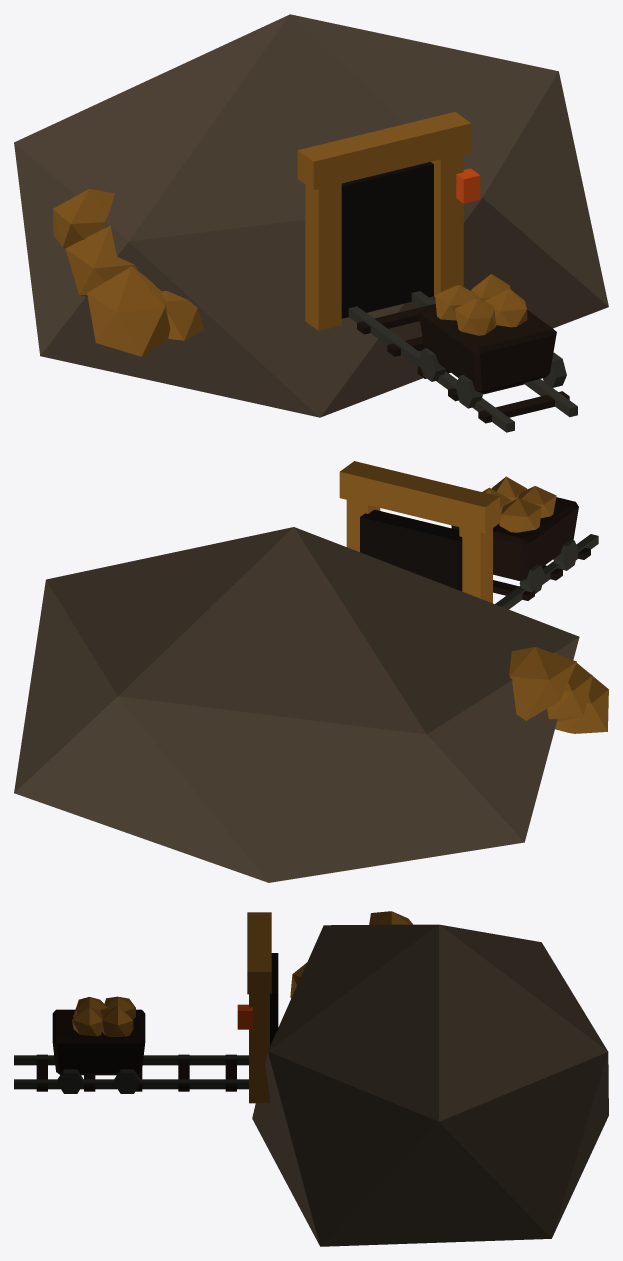
Rendered from goldmine.obj.
The picture shows the model from 3 angles, top to bottom: view 1: azimuth 30°, elevation 25°; view 2: azimuth 150°, elevation 25°; view 3: azimuth 270°, elevation 25°; orthographic projection. The views are drawn at different scales.
Visible parts, largest first — view 1: core_rock, core_gold, core_black, core_wood_dark, core_metal_dark, core_fire; view 2: core_rock, core_gold, core_black, core_wood_dark, core_metal_dark; view 3: core_rock, core_gold, core_wood_dark, core_metal_dark, core_black.
Part boxes in pixels (x1,y1,x2,y2): core_rock: (14,14,608,417); core_gold: (53,111,527,356); core_black: (341,162,433,318); core_wood_dark: (357,303,569,423); core_metal_dark: (348,291,577,432); core_fire: (456,168,480,203); core_rock: (14,527,579,882); core_gold: (339,461,608,733); core_black: (360,509,462,591); core_wood_dark: (451,497,590,600); core_metal_dark: (495,534,598,609); core_rock: (252,924,608,1246); core_gold: (72,911,412,1103); core_wood_dark: (36,1009,236,1091); core_metal_dark: (14,1055,248,1093); core_black: (270,953,278,1045).
Size of the model in its own units: 0.5097 by 0.3338 by 0.6301.
